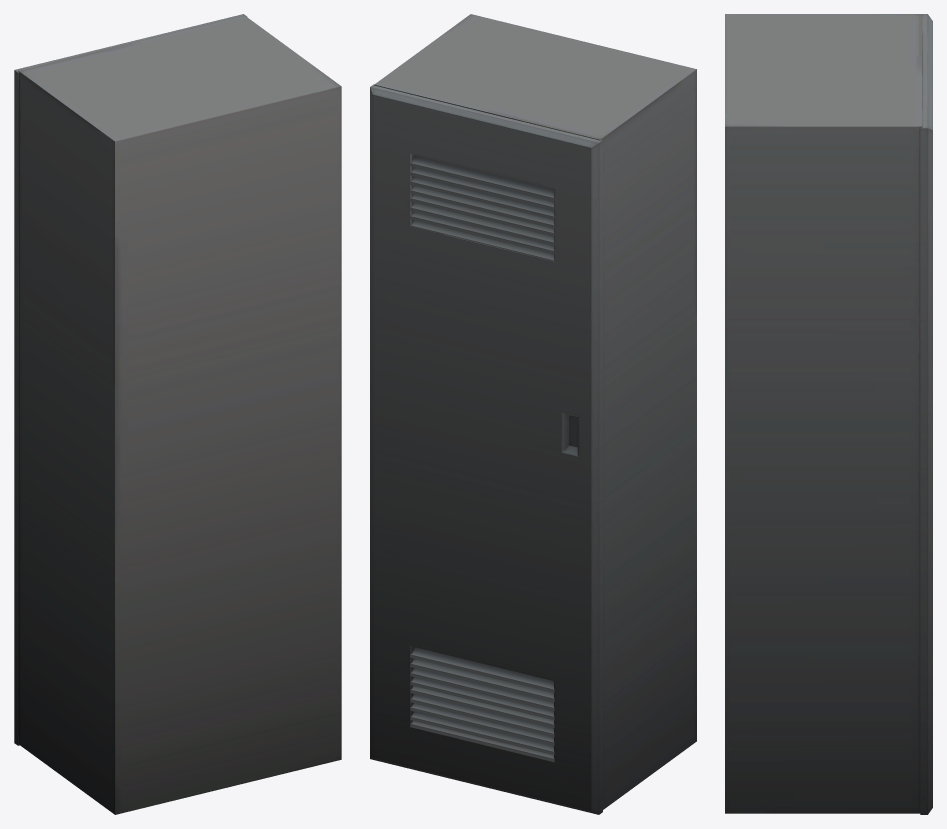
File: Locker.fbx
3 renders of one model, left to right at view 1: azimuth 30°, elevation 25°; view 2: azimuth 150°, elevation 25°; view 3: azimuth 270°, elevation 25°, orthographic. The views are drawn at different scales.
Visible parts, largest first — view 1: Locker_MESH; view 2: Locker_MESH; view 3: Locker_MESH.
Boxes of the visible parts, x1,y1,x2,y2 form: Locker_MESH: (14, 14, 341, 814); Locker_MESH: (370, 14, 696, 814); Locker_MESH: (725, 14, 932, 814).
Bounding box in the file's own units: 75.31 × 211 × 57.95.
